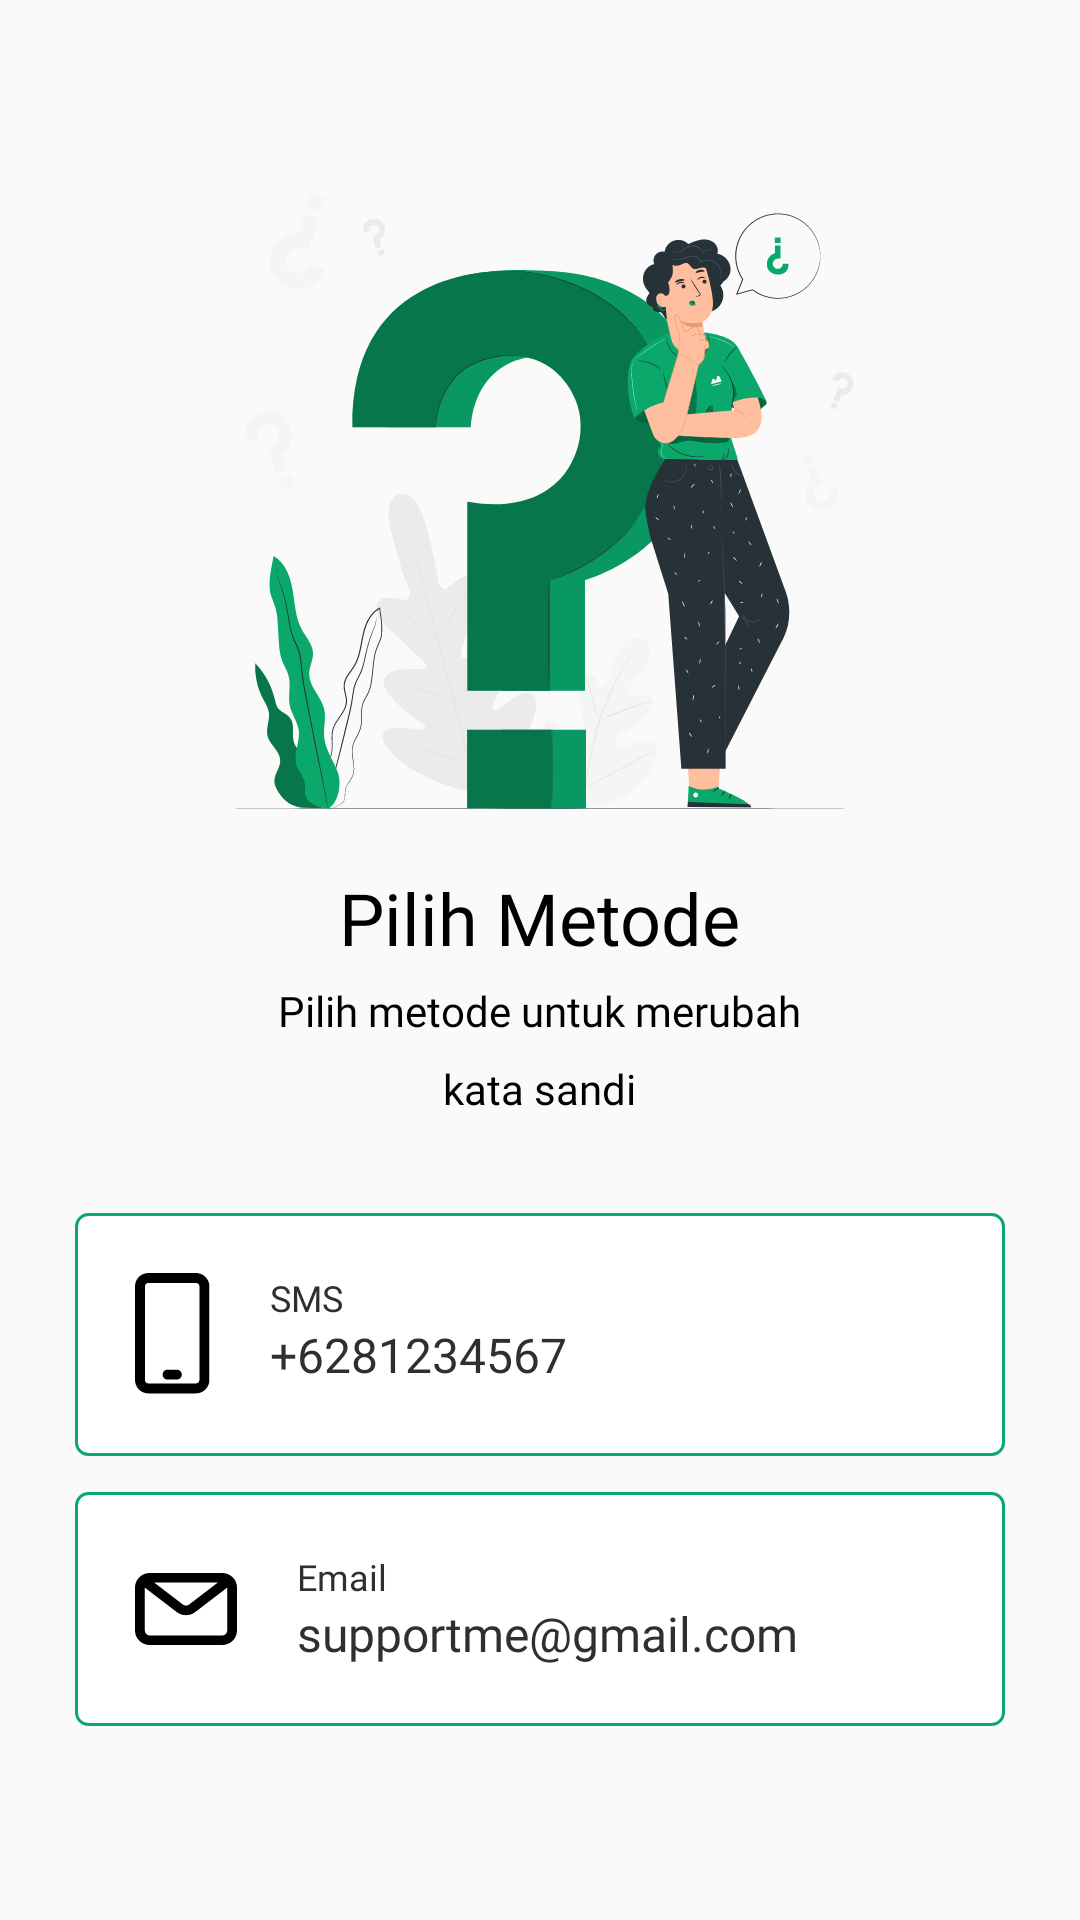

Icons on this 1080px×1920px Android screen, each with its box as (x1=x1, y1=y1, x2=x2, y2=y2):
phone: (x1=135, y1=1273, x2=210, y2=1394)
